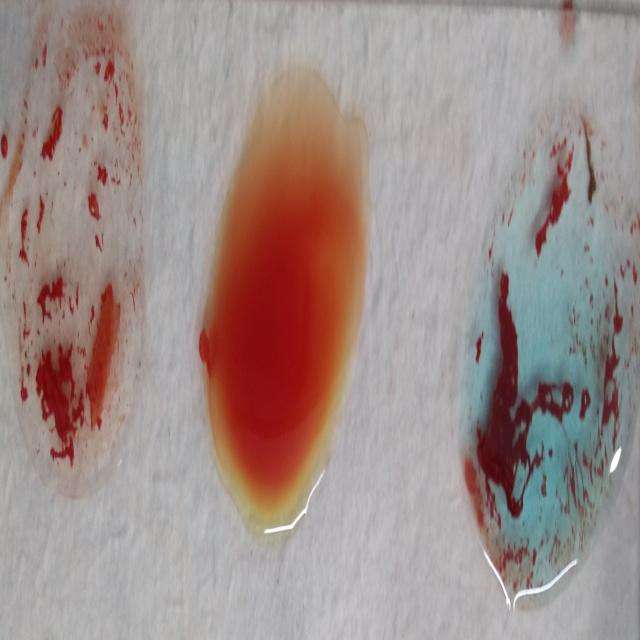A: (466, 115, 631, 608)
D: (8, 10, 146, 478)
